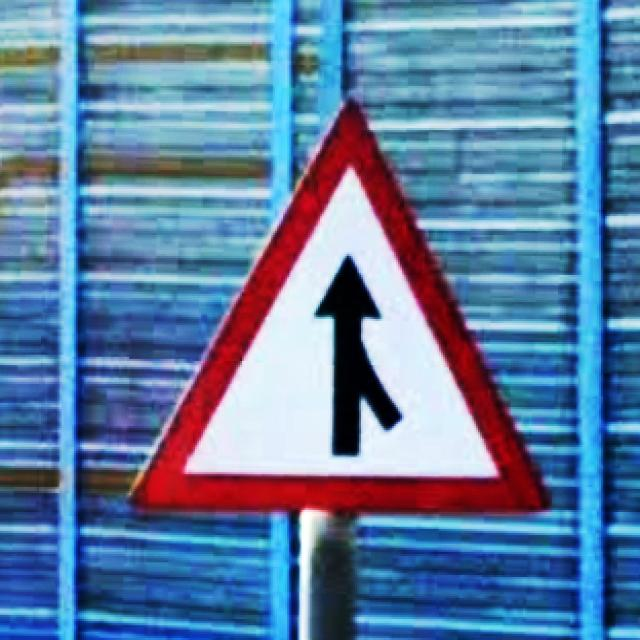rightmerge: (136, 98, 549, 515)
